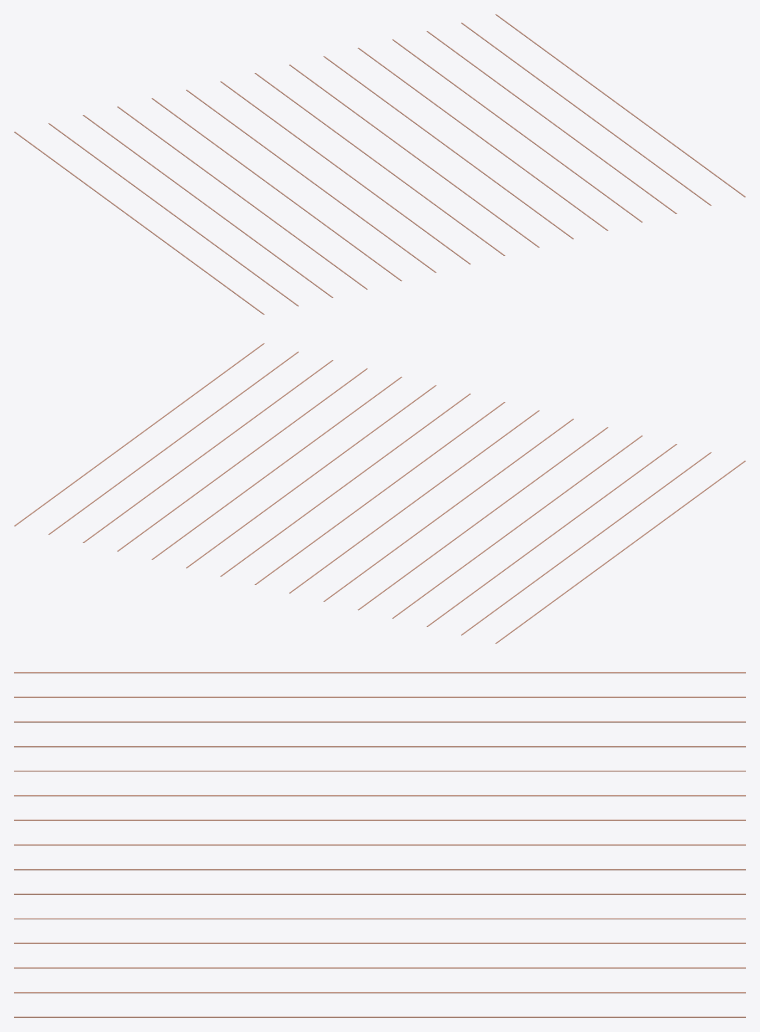
3 renders of one model, top to bottom at view 1: azimuth 30°, elevation 25°; view 2: azimuth 150°, elevation 25°; view 3: azimuth 270°, elevation 25°, orthographic. The views are drawn at different scales.
Parts seen in each view (by area): view 1: Plank seam.001, Plank seam.004, Plank seam.010, Plank seam.013, Plank seam, Plank seam.003, Plank seam.005, Plank seam.006, Plank seam.007, Plank seam.008, Plank seam.009, Plank seam.011 (+3 smaller); view 2: Plank seam.001, Plank seam.004, Plank seam.010, Plank seam.013, Plank seam, Plank seam.003, Plank seam.005, Plank seam.006, Plank seam.007, Plank seam.008, Plank seam.009, Plank seam.011 (+3 smaller); view 3: Plank seam, Plank seam.001, Plank seam.002, Plank seam.003, Plank seam.004, Plank seam.005, Plank seam.006, Plank seam.007, Plank seam.008, Plank seam.009, Plank seam.010, Plank seam.011 (+3 smaller).
Part boxes in pixels (x1,y1,x2,y2): Plank seam.001: [48, 123, 298, 306]; Plank seam.004: [151, 98, 401, 281]; Plank seam.010: [358, 47, 608, 230]; Plank seam.013: [461, 22, 711, 205]; Plank seam: [14, 131, 264, 314]; Plank seam.003: [117, 106, 367, 289]; Plank seam.005: [186, 89, 436, 272]; Plank seam.006: [220, 81, 470, 264]; Plank seam.007: [254, 73, 505, 255]; Plank seam.008: [289, 64, 539, 247]; Plank seam.009: [323, 56, 573, 239]; Plank seam.011: [392, 39, 642, 222]; Plank seam.001: [461, 452, 711, 635]; Plank seam.004: [358, 427, 608, 610]; Plank seam.010: [151, 376, 401, 559]; Plank seam.013: [48, 351, 298, 534]; Plank seam: [495, 460, 745, 643]; Plank seam.003: [392, 435, 642, 618]; Plank seam.005: [323, 418, 573, 601]; Plank seam.006: [289, 410, 539, 593]; Plank seam.007: [254, 402, 505, 584]; Plank seam.008: [220, 393, 470, 576]; Plank seam.009: [186, 385, 436, 568]; Plank seam.011: [117, 368, 367, 551]; Plank seam: [14, 672, 745, 673]; Plank seam.001: [14, 696, 745, 697]; Plank seam.002: [14, 721, 745, 722]; Plank seam.003: [14, 746, 745, 747]; Plank seam.004: [14, 770, 745, 771]; Plank seam.005: [14, 795, 745, 796]; Plank seam.006: [14, 819, 745, 820]; Plank seam.007: [14, 844, 745, 845]; Plank seam.008: [14, 869, 745, 870]; Plank seam.009: [14, 893, 745, 894]; Plank seam.010: [14, 918, 745, 919]; Plank seam.011: [14, 942, 745, 943].
Size of the model in its own units: 4.91 by 0.003 by 4.4.
Materials: 1 (1 with a texture image).
